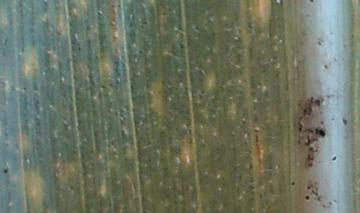tarspot: (318, 128, 326, 138), (304, 194, 311, 201), (290, 180, 296, 187), (3, 168, 9, 173), (307, 1, 316, 4), (306, 185, 311, 190)
